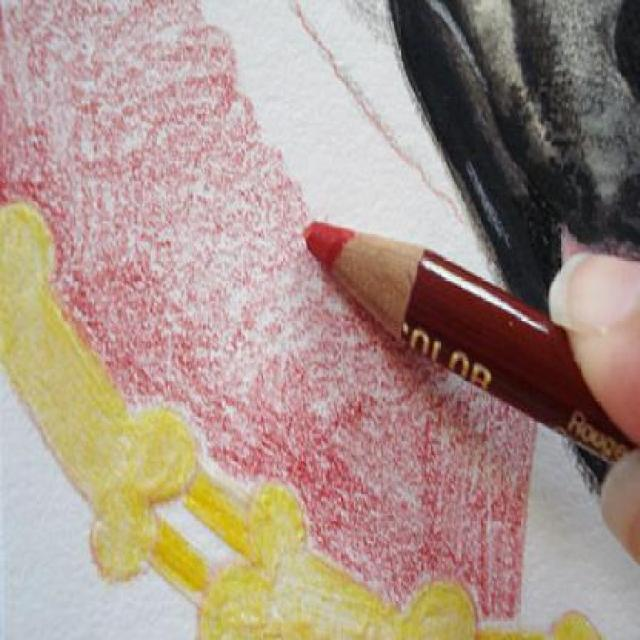Pencil: (293, 192, 470, 376)
